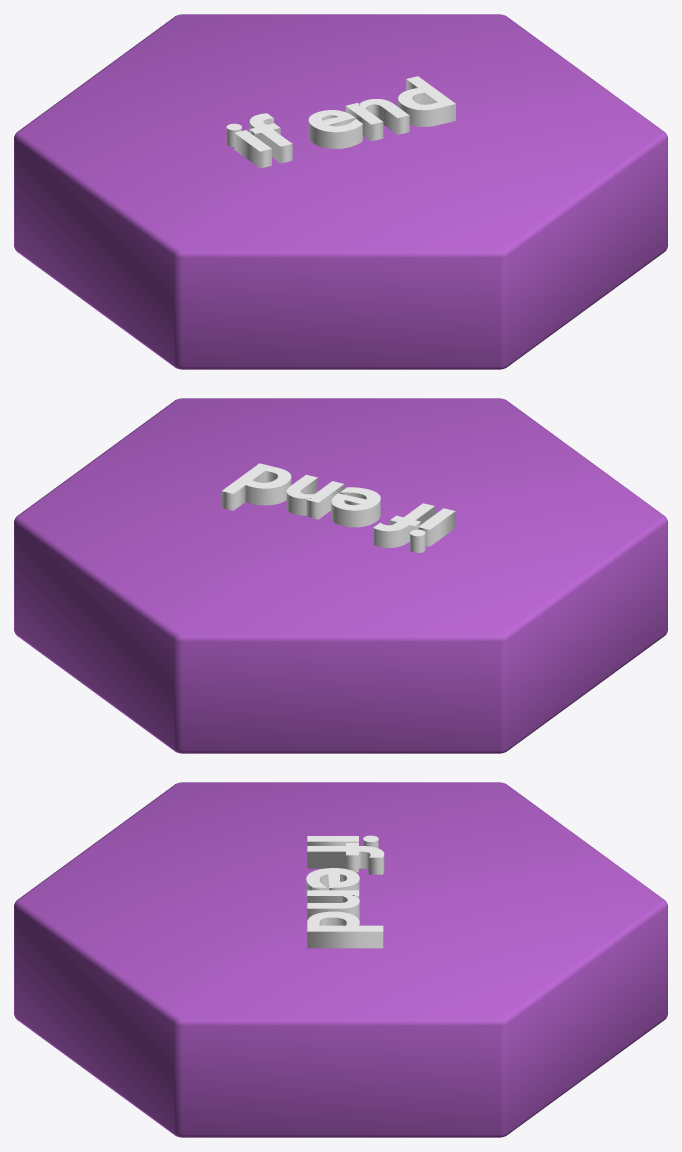
The model's file is ifend.fbx.
3 views of the same model, one above another, from view 1: azimuth 30°, elevation 25°; view 2: azimuth 150°, elevation 25°; view 3: azimuth 270°, elevation 25° (orthographic).
Parts seen in each view (by area): view 1: If end_Base, If end_Text; view 2: If end_Base, If end_Text; view 3: If end_Base, If end_Text.
Boxes of the visible parts, x1,y1,x2,y2 form: If end_Base: [14, 14, 667, 369]; If end_Text: [226, 76, 455, 168]; If end_Base: [14, 398, 667, 753]; If end_Text: [221, 463, 455, 552]; If end_Base: [14, 782, 667, 1137]; If end_Text: [306, 835, 384, 948].
Size of the model in its own units: 260 by 68.5 by 299.
